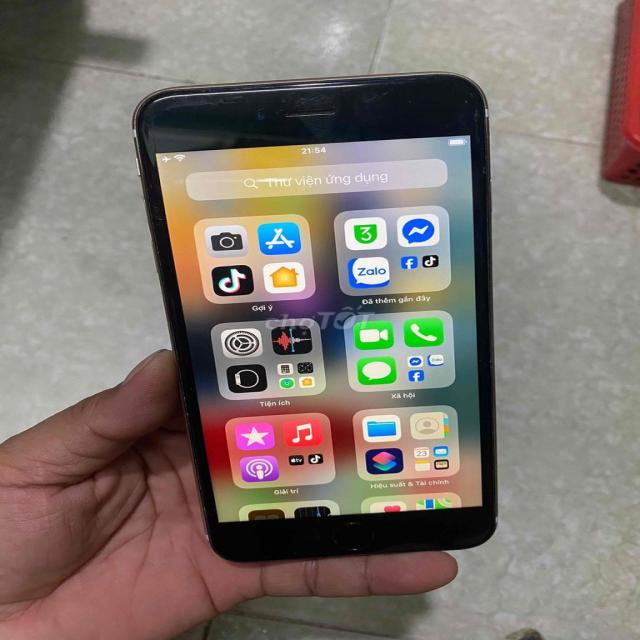gen_6: (133, 72, 496, 561)
physical_damage: (108, 68, 503, 146)
scratch: (139, 174, 173, 294)
